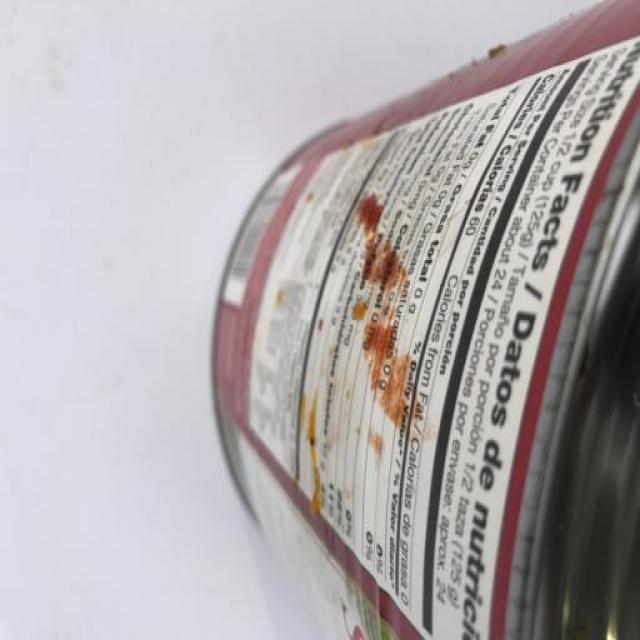metel: (160, 9, 640, 640)
